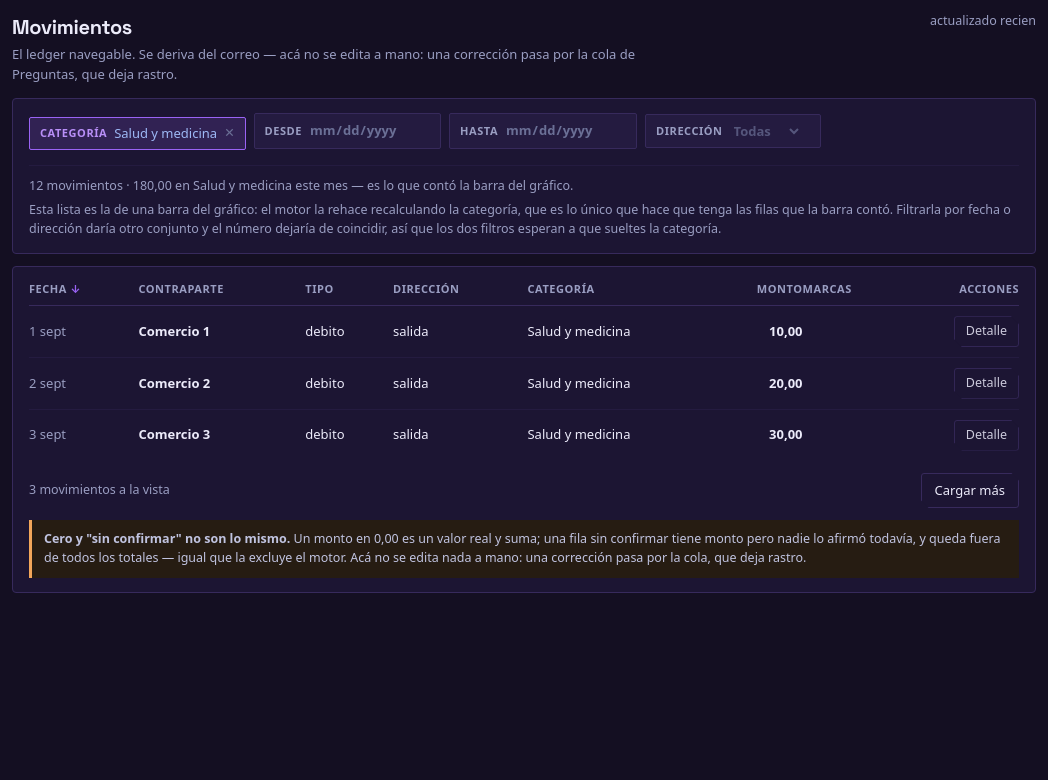
it: llegar desde una barra del gráfico (H21) › se puede soltar sin salir de la pantalla: vuelve la lista entera y los filtros
Click the button with test id "soltar-categoria" at (229, 133), box x1=224 y1=124 x2=235 y2=143
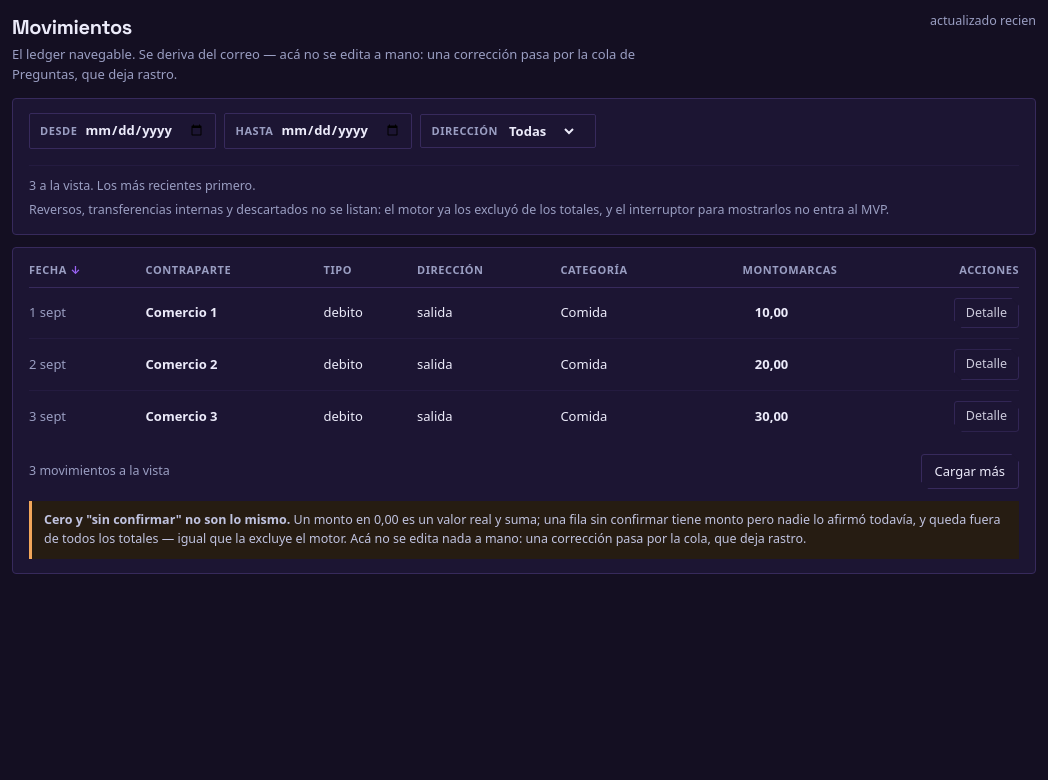
Expected: the dropdown with test id "filtro-direccion" is enabled, x1=505 y1=121 x2=577 y2=141
